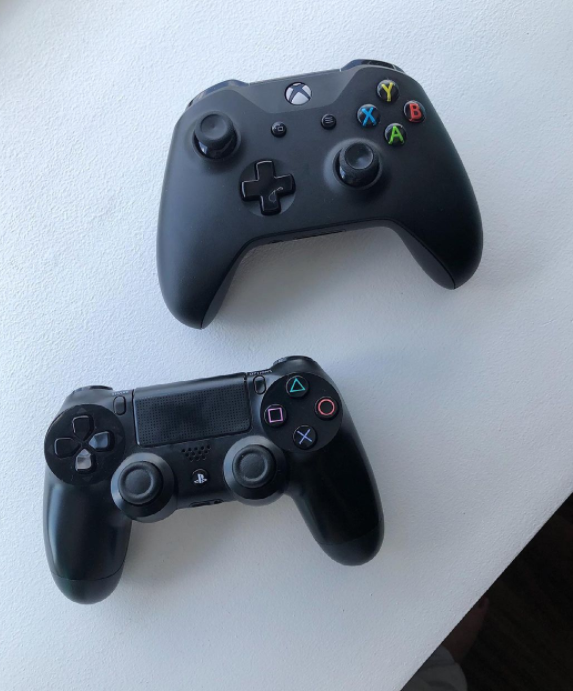gamingconsole: (161, 60, 484, 325), (42, 359, 388, 599)
